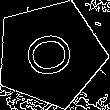O_E: (19, 27, 81, 82)
